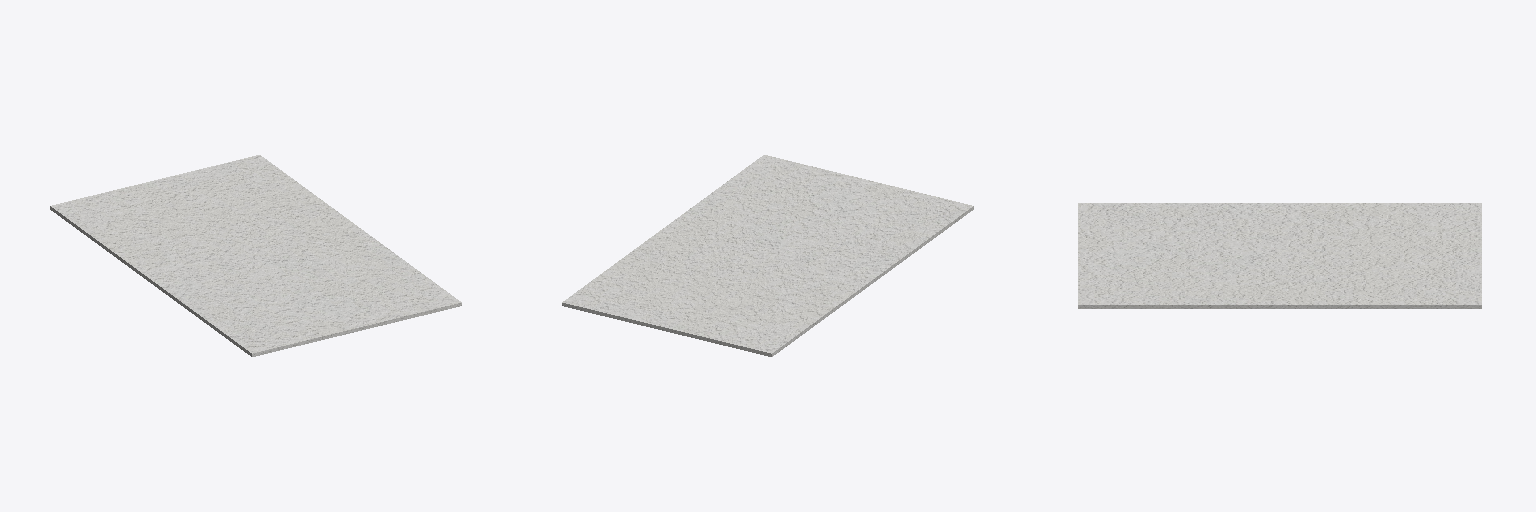
The picture shows the model from 3 angles: view 1: azimuth 30°, elevation 25°; view 2: azimuth 150°, elevation 25°; view 3: azimuth 270°, elevation 25°; orthographic projection.
Parts seen in each view (by area): view 1: Cube.001; view 2: Cube.001; view 3: Cube.001.
Boxes of the visible parts, <box> form: Cube.001: <box>50,155,461,356</box>; Cube.001: <box>562,155,973,356</box>; Cube.001: <box>1078,203,1481,308</box>.
Size of the model in its own units: 6 by 0.1 by 10.
1 materials, 1 textured.